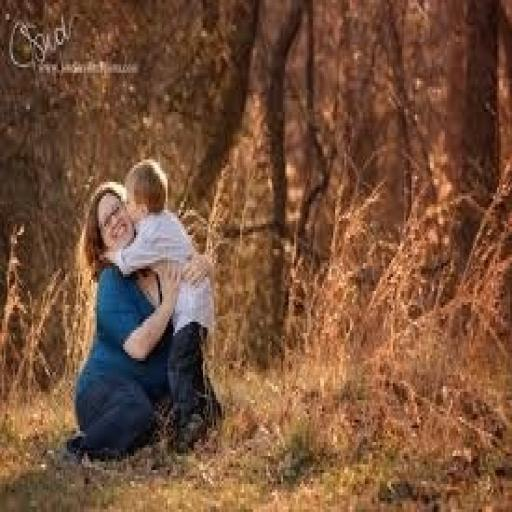hugging: (67, 162, 220, 464)
